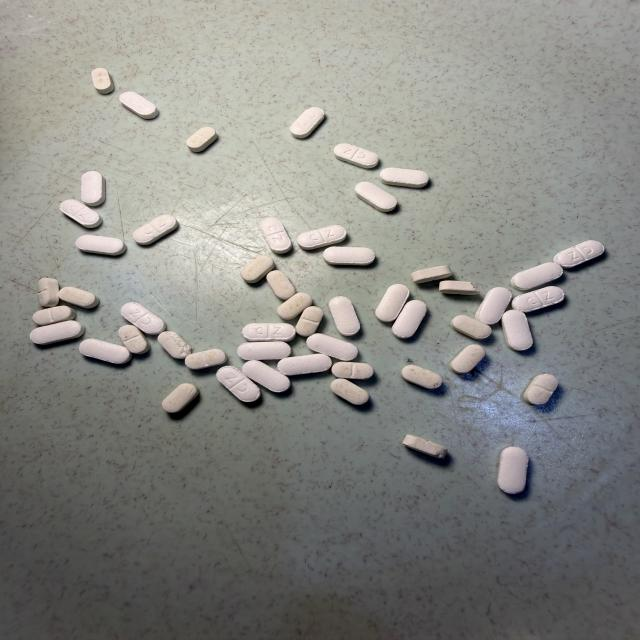pill: (217, 366, 260, 402), (243, 360, 290, 392), (511, 262, 563, 290), (498, 447, 528, 494), (554, 240, 604, 268), (307, 334, 358, 361), (121, 303, 165, 334), (512, 286, 564, 312), (133, 215, 178, 245), (475, 287, 511, 324), (392, 300, 427, 338), (79, 339, 131, 364), (30, 321, 84, 345), (276, 292, 312, 328), (355, 182, 397, 212), (376, 284, 409, 322), (297, 225, 346, 250), (329, 297, 360, 336), (502, 310, 532, 350), (60, 200, 102, 228), (278, 354, 331, 376), (162, 383, 199, 413), (523, 374, 558, 405), (260, 218, 291, 253), (334, 144, 378, 168), (119, 92, 158, 119), (331, 378, 369, 405), (290, 108, 324, 138), (450, 345, 485, 374), (403, 435, 447, 458), (76, 235, 126, 255), (401, 365, 442, 389), (451, 315, 491, 339), (242, 323, 295, 341), (238, 342, 291, 360), (323, 247, 375, 265), (158, 331, 191, 359), (380, 168, 428, 187), (118, 325, 149, 354), (241, 256, 274, 283), (81, 171, 105, 206), (267, 270, 295, 300), (59, 287, 99, 308), (185, 349, 227, 369), (296, 307, 323, 337), (33, 306, 75, 325), (187, 127, 217, 152), (411, 266, 452, 283), (332, 362, 373, 379), (38, 277, 59, 307), (92, 68, 114, 93), (439, 281, 479, 294)
